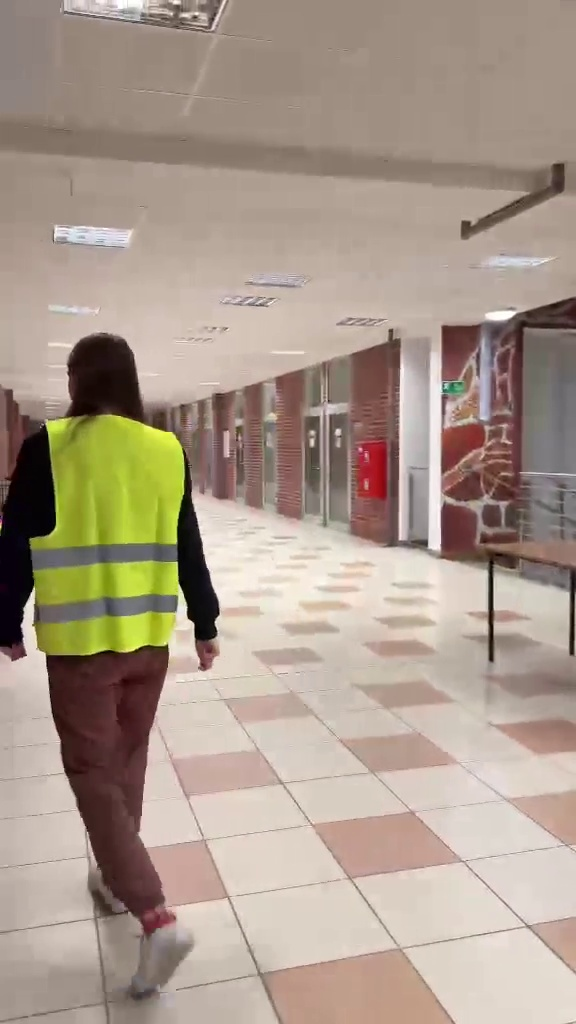vest: (1, 331, 227, 1005)
